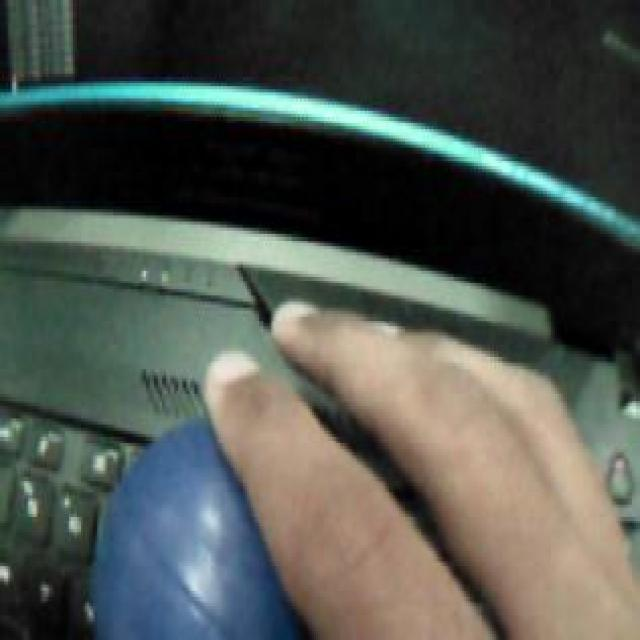BallPurple: (90, 410, 336, 640)
